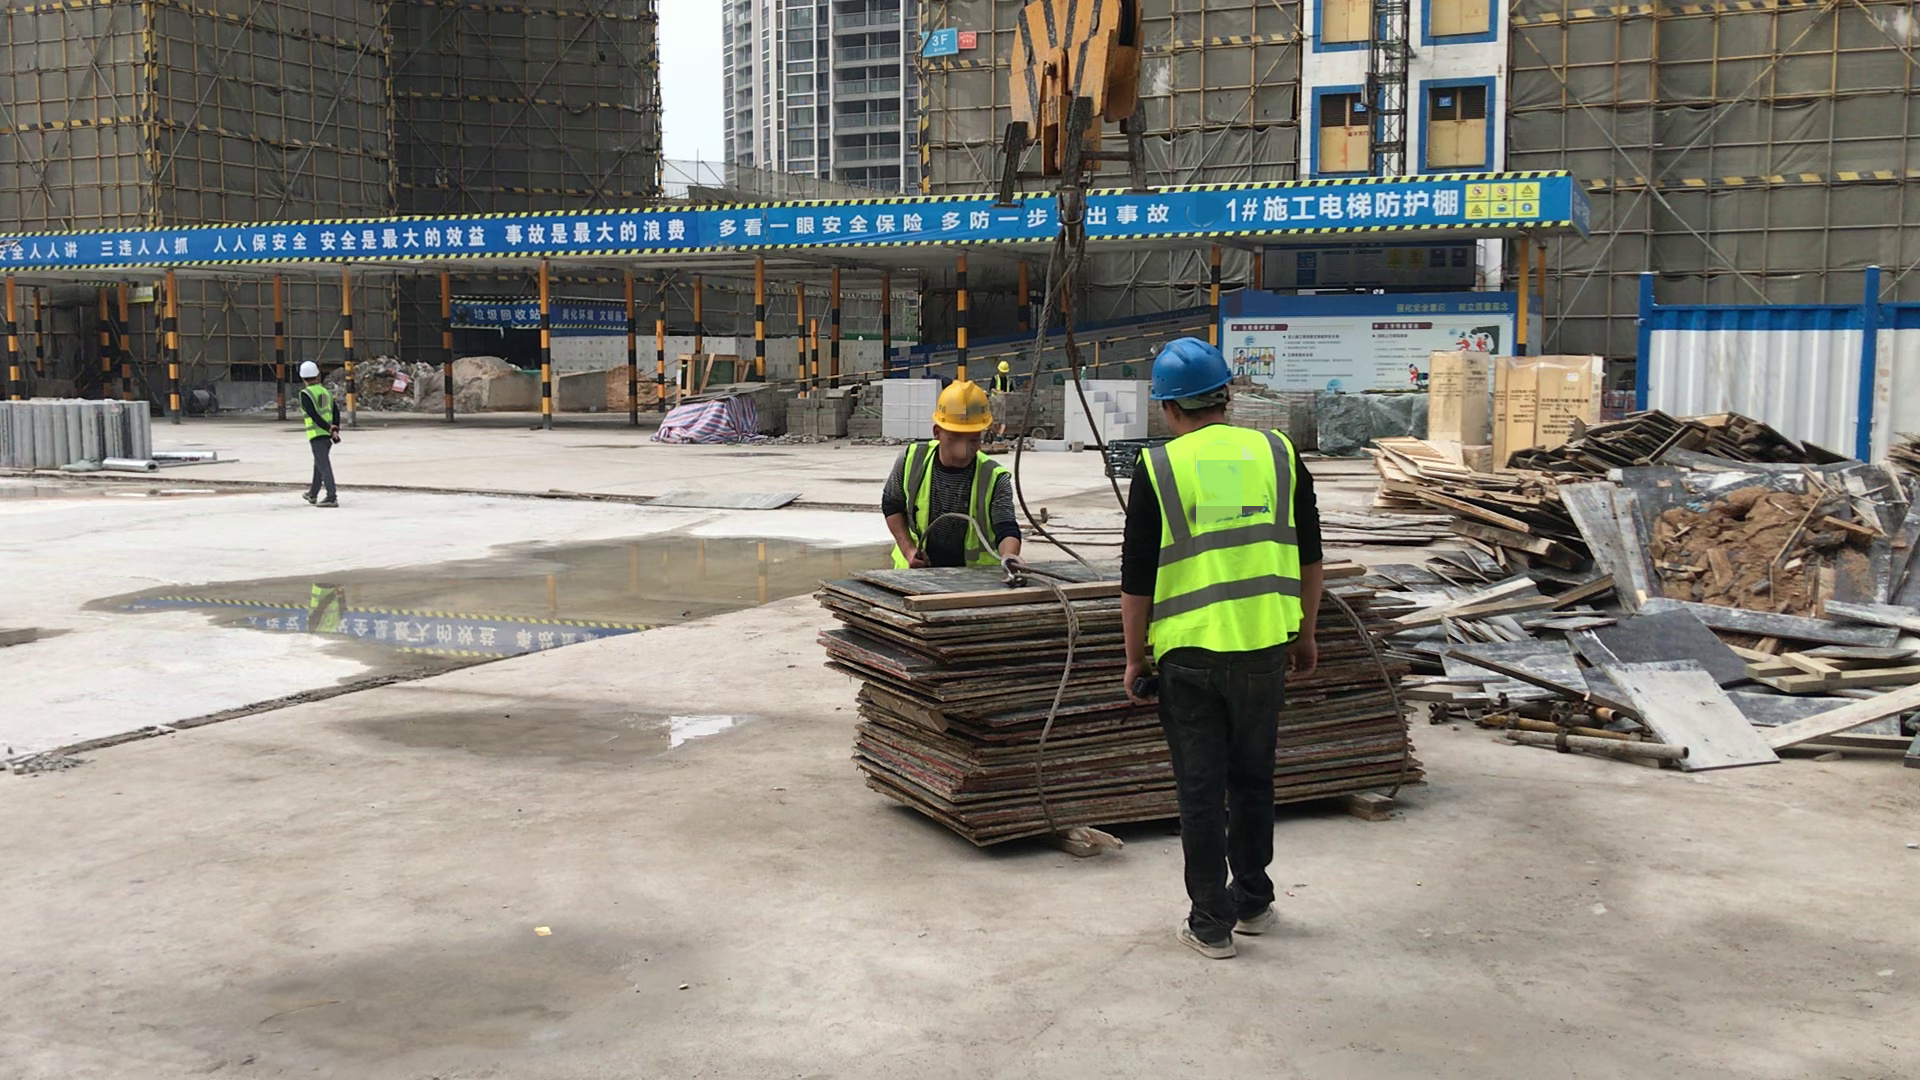board: (807, 558, 1432, 847)
brick: (1064, 379, 1145, 445), (883, 378, 937, 442)
helmet: (1146, 339, 1235, 402), (929, 383, 995, 434), (293, 359, 316, 380), (997, 360, 1008, 374)
hook: (1003, 2, 1152, 272)
person: (1122, 338, 1329, 958), (884, 378, 1029, 568), (292, 357, 347, 509), (986, 361, 1015, 391)
slogan: (3, 204, 1175, 258), (1461, 182, 1544, 217), (557, 306, 631, 326)
vest: (1141, 425, 1303, 664), (900, 439, 1007, 569), (300, 386, 336, 442)
